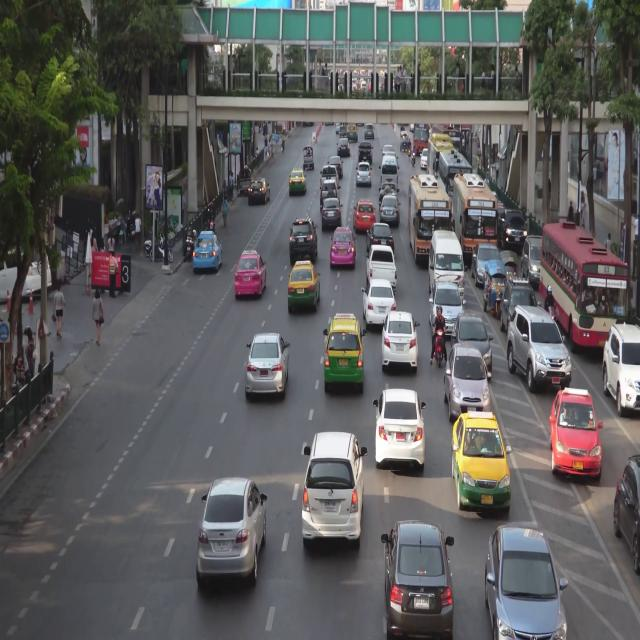bus: (543, 220, 627, 342), (452, 177, 499, 268), (406, 178, 453, 259), (437, 149, 472, 206), (433, 124, 463, 172), (429, 136, 453, 185), (412, 118, 428, 153)
car: (483, 525, 568, 640), (384, 523, 455, 640), (303, 429, 364, 547), (201, 478, 265, 586), (505, 307, 571, 387), (375, 390, 425, 468), (612, 451, 640, 570), (605, 320, 640, 412), (443, 351, 491, 417), (0, 245, 53, 302), (248, 333, 287, 399), (453, 317, 492, 377), (429, 233, 463, 299), (380, 314, 418, 371), (501, 283, 541, 337), (433, 281, 463, 336), (362, 278, 398, 322), (288, 217, 317, 264), (471, 238, 499, 286), (483, 259, 506, 313), (366, 248, 396, 289), (364, 219, 393, 258), (500, 206, 526, 246), (523, 241, 543, 284), (381, 153, 400, 194), (378, 195, 401, 225), (321, 195, 341, 229), (249, 178, 272, 204), (319, 160, 338, 188), (501, 243, 516, 277), (356, 164, 372, 189), (359, 141, 375, 165), (304, 142, 316, 170), (322, 182, 337, 203), (331, 153, 344, 177), (380, 181, 396, 199), (239, 170, 252, 192), (364, 119, 375, 144), (338, 134, 350, 156), (399, 130, 410, 151), (383, 143, 394, 158), (420, 150, 427, 169)
pedestrian: (92, 287, 104, 350), (23, 323, 35, 376), (55, 286, 64, 338), (108, 250, 117, 299), (134, 212, 143, 252), (579, 189, 587, 232), (222, 195, 228, 225), (107, 233, 114, 258), (568, 197, 574, 223), (230, 167, 235, 198), (634, 212, 639, 243), (605, 231, 612, 252), (92, 232, 98, 256), (182, 191, 186, 224), (270, 143, 276, 163), (223, 180, 228, 199), (101, 240, 106, 256), (265, 135, 268, 158), (268, 134, 271, 156), (282, 135, 285, 156), (256, 147, 259, 155)
taxi: (452, 415, 510, 519), (552, 387, 602, 480), (324, 317, 365, 389), (288, 262, 319, 315), (236, 250, 266, 297), (192, 230, 222, 272), (330, 227, 356, 269), (355, 201, 375, 234), (290, 169, 308, 197), (346, 121, 359, 142)
